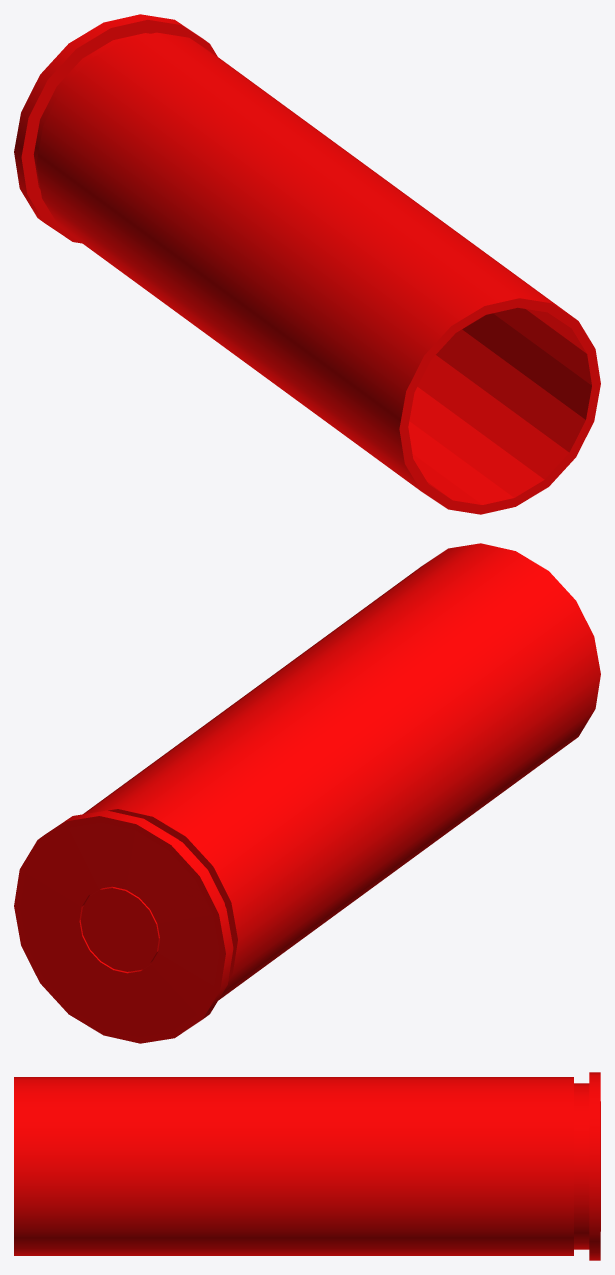
The model's file is Revolver_Casing.FBX.
3 views of the same model, one above another, from view 1: azimuth 30°, elevation 25°; view 2: azimuth 150°, elevation 25°; view 3: azimuth 270°, elevation 25° (orthographic). The views are drawn at different scales.
Visible parts, largest first — view 1: Casing; view 2: Casing; view 3: Casing.
Boxes of the visible parts, left/top/right/bottom form: Casing: left=14, top=14, right=600, bottom=514; Casing: left=14, top=543, right=600, bottom=1043; Casing: left=14, top=1072, right=600, bottom=1260.
Size of the model in its own units: 0.718 by 0.7094 by 2.23.
